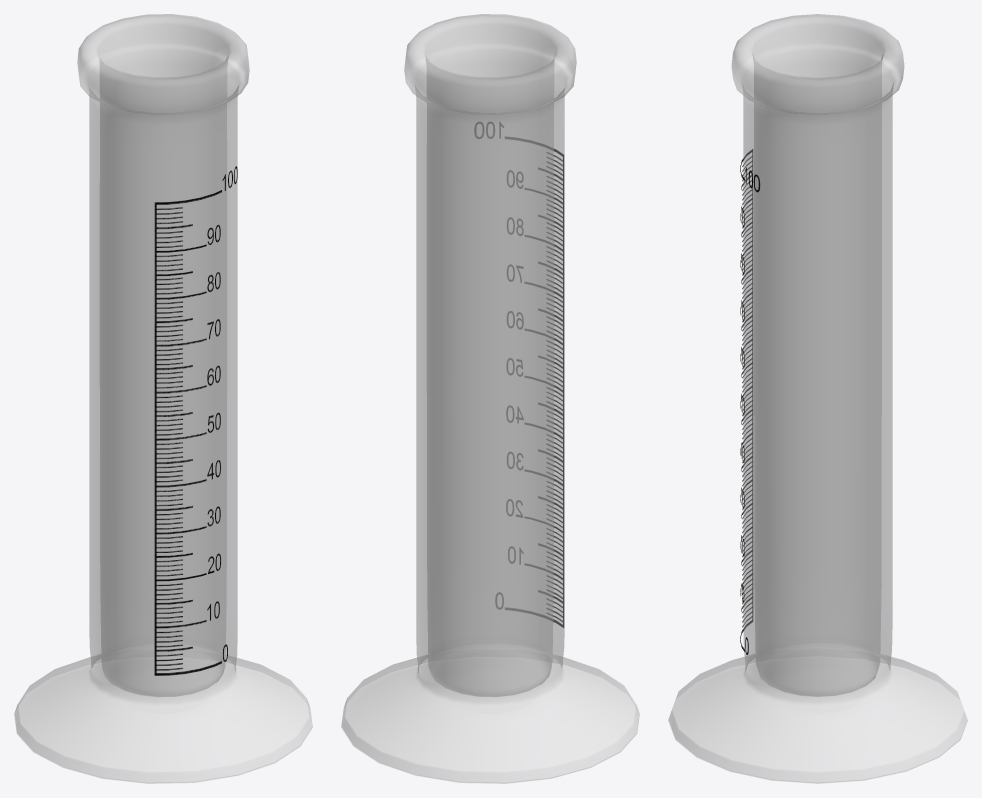
File: FluidCylinder_TopSurfaceTest02.fbx
3 renders of one model, left to right at view 1: azimuth 30°, elevation 25°; view 2: azimuth 150°, elevation 25°; view 3: azimuth 270°, elevation 25°, orthographic.
Parts seen in each view (by area): view 1: Glass_Cylinder, Unit_Mesh; view 2: Glass_Cylinder, Unit_Mesh; view 3: Glass_Cylinder, Unit_Mesh.
Part boxes in pixels (left/top/right/bottom): Glass_Cylinder: left=14, top=14, right=312, bottom=783; Unit_Mesh: left=154, top=166, right=237, bottom=675; Glass_Cylinder: left=341, top=14, right=639, bottom=783; Unit_Mesh: left=474, top=122, right=564, bottom=627; Glass_Cylinder: left=668, top=14, right=967, bottom=783; Unit_Mesh: left=740, top=149, right=760, bottom=655.
Bounding box in the file's own units: 0.8255 × 2.04 × 0.8244.
3 materials, 2 textured.
